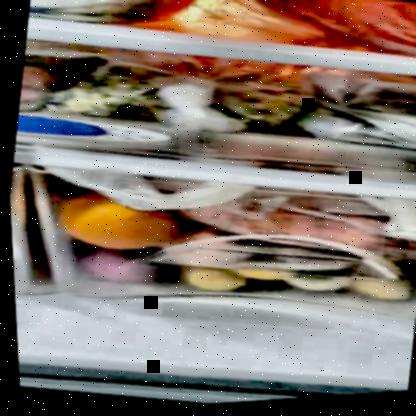lemon: (162, 256, 261, 306)
orange: (48, 181, 191, 262)
